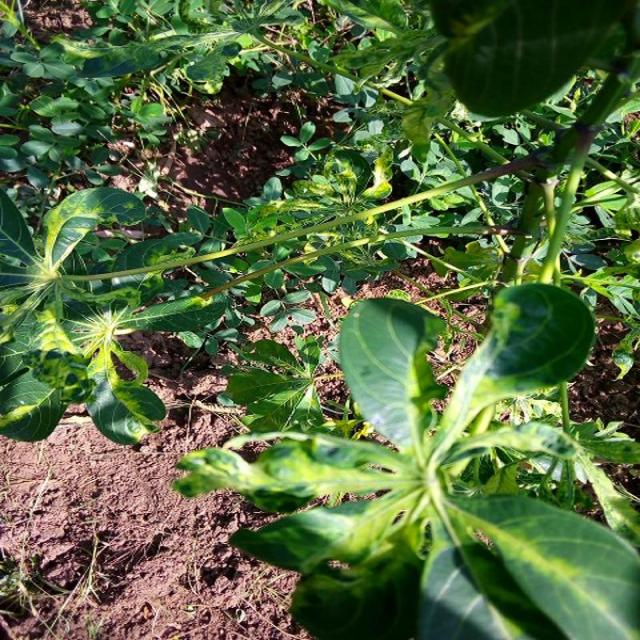cassava leaf: (173, 281, 638, 638), (338, 296, 447, 456)
